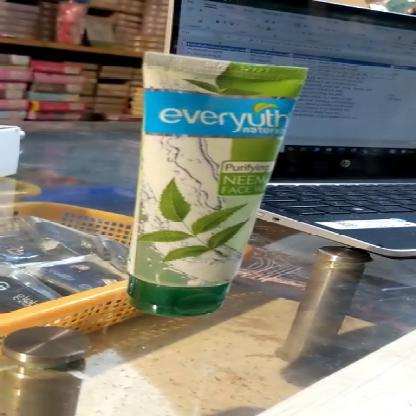EY NATURALS NEEM FACE WASH AY 50G: (115, 53, 308, 315)
